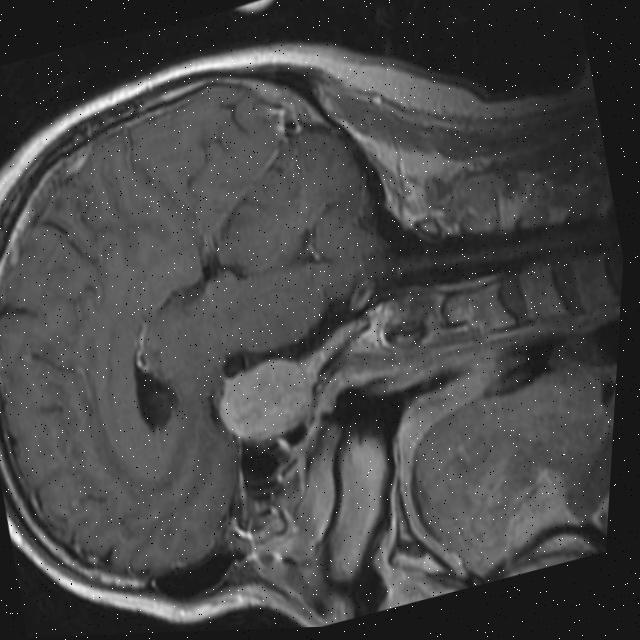Pituitary: (204, 347, 322, 451)
